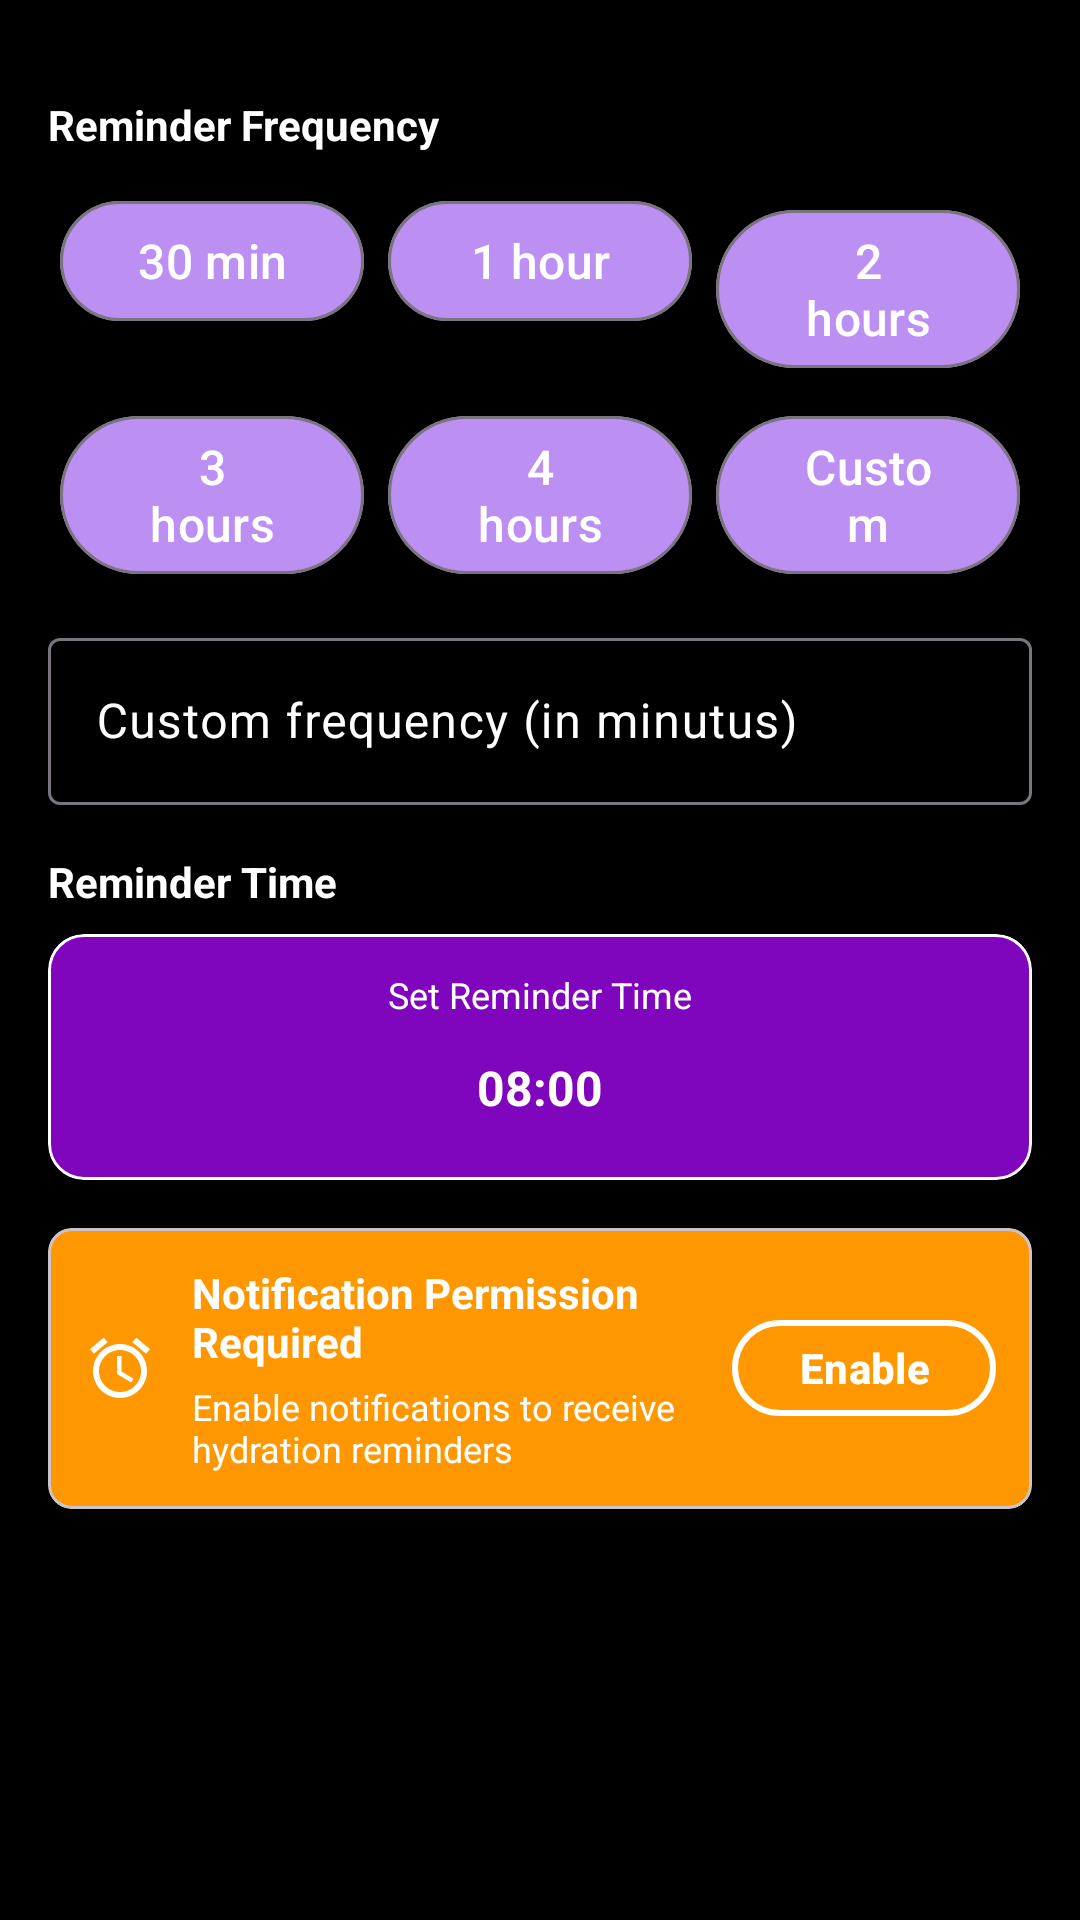

Icons on this 1080x1920 Android screen, each with its box as (x1, y1, x2, y2):
alarm: (90, 1337, 150, 1398)
